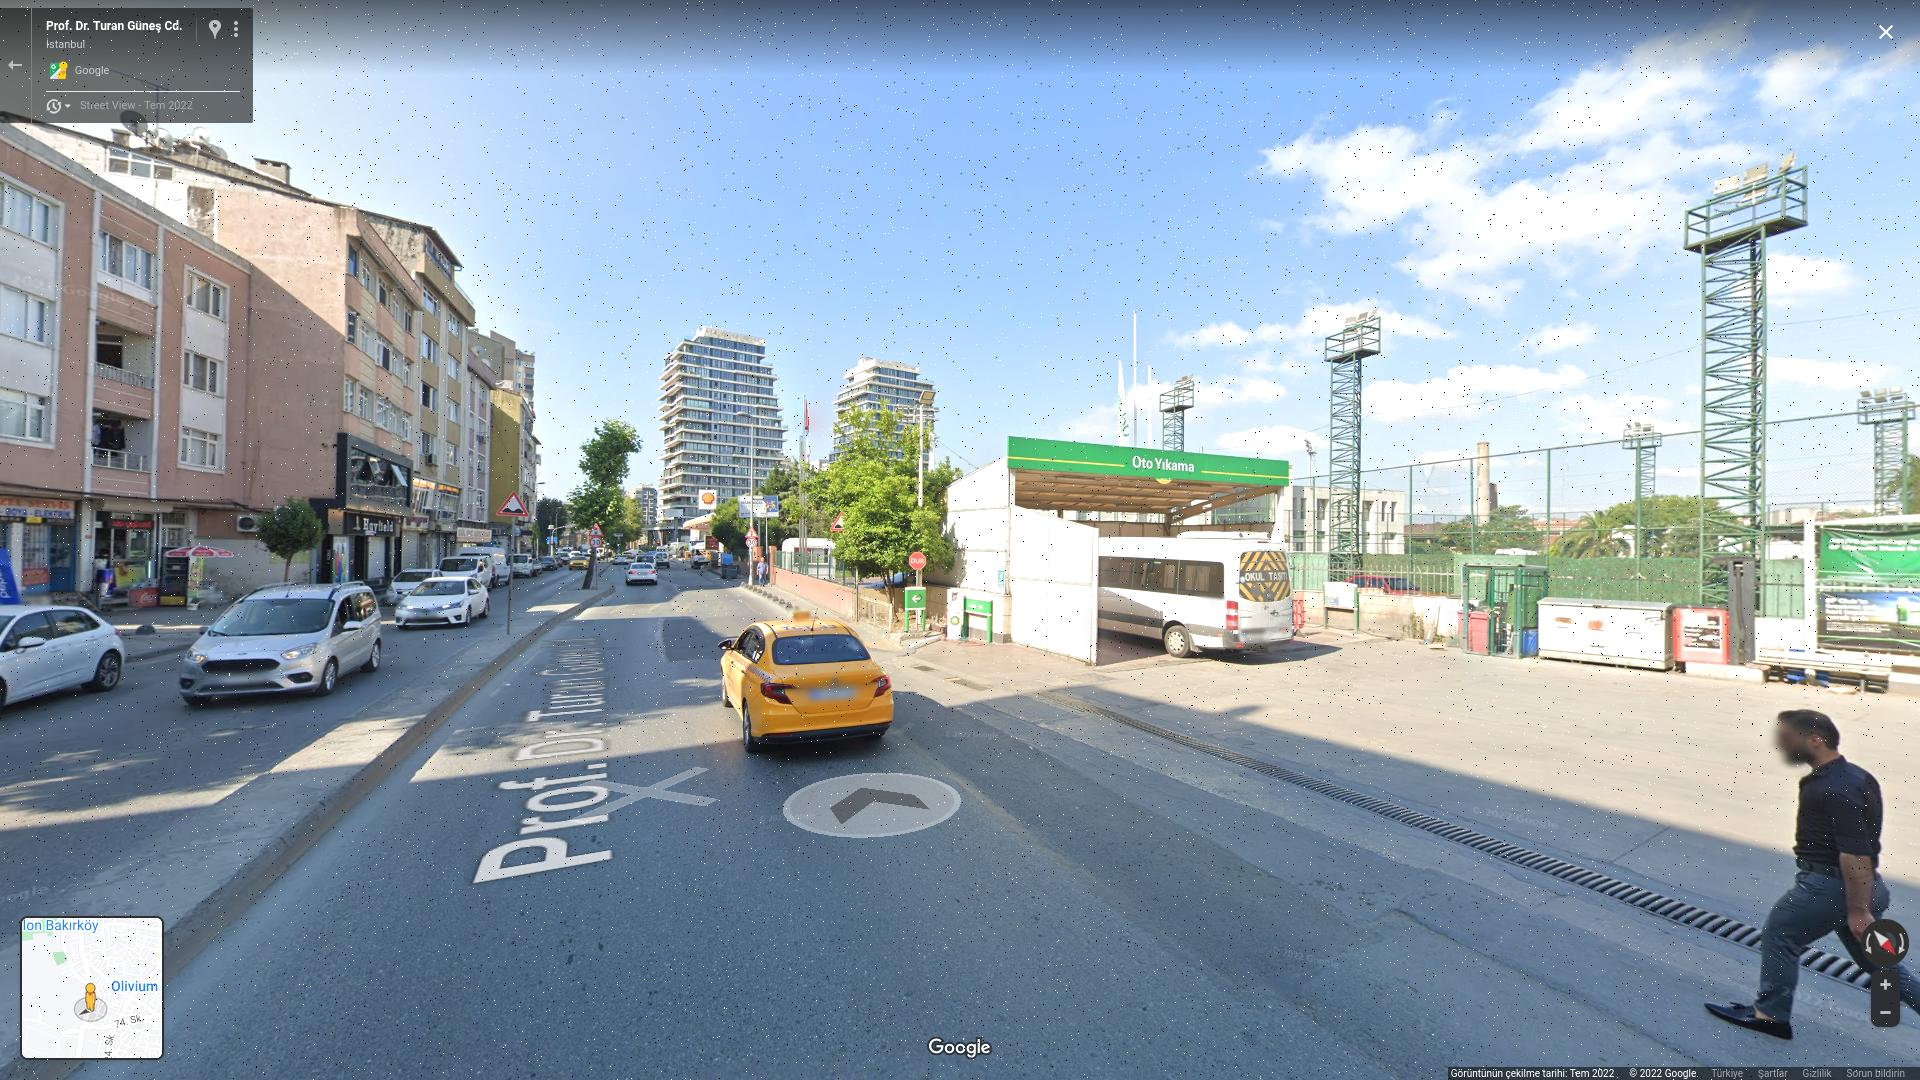stop: (910, 553, 926, 570)
